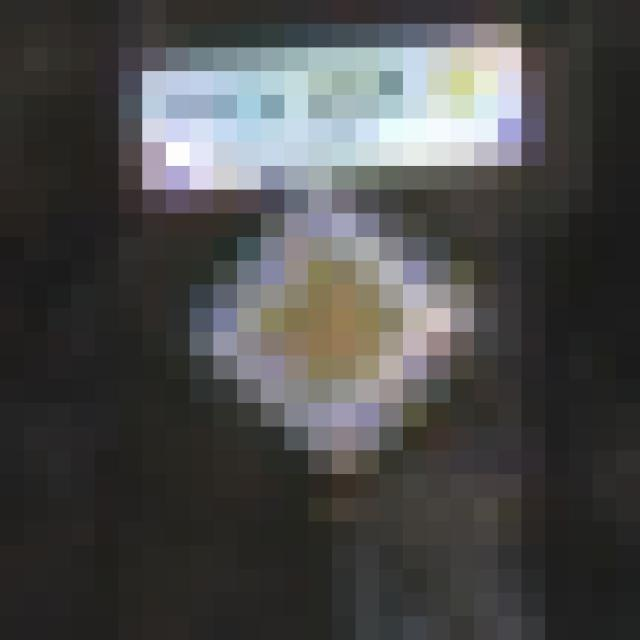Main Road: (120, 120, 523, 523)
